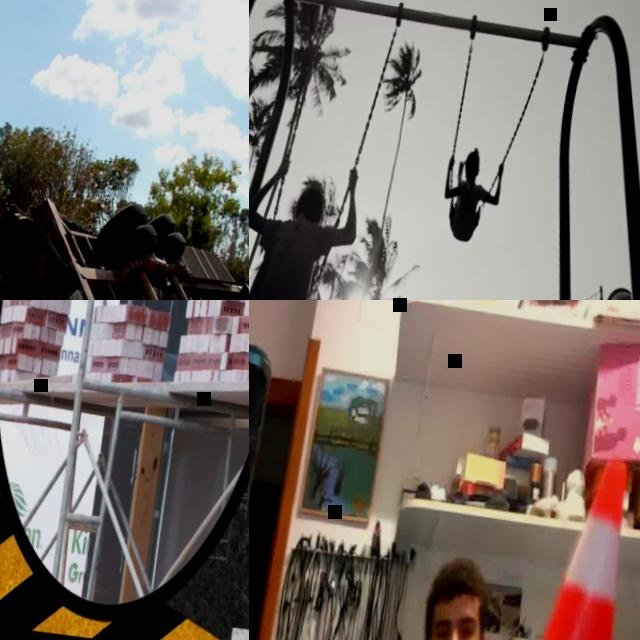NO-Hardhat: (428, 556, 490, 610), (299, 177, 327, 204), (466, 145, 485, 168)
NO-Safety Vest: (249, 213, 316, 300), (452, 177, 483, 239)
Person: (361, 548, 640, 640), (249, 147, 367, 300), (438, 141, 506, 242)
Safety Cone: (522, 446, 640, 640)
machinery: (0, 161, 249, 300)
